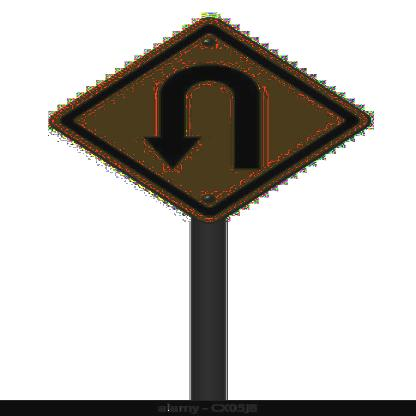U-turn: (55, 18, 370, 227)
